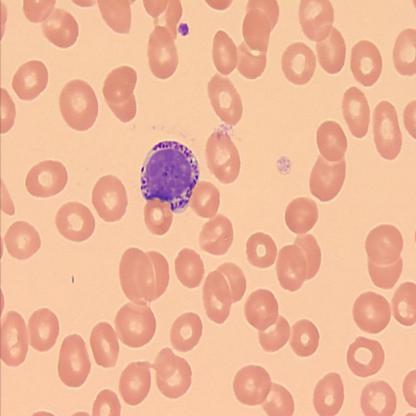Basophil: (136, 138, 202, 214)
